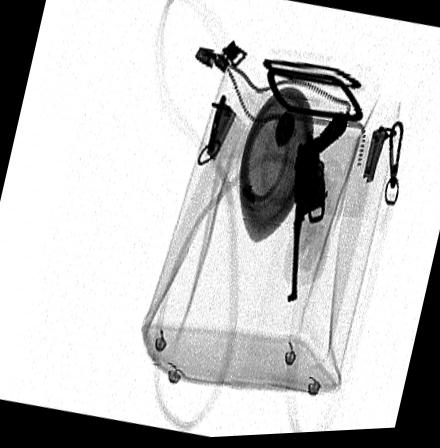Gun: (285, 113, 348, 307)
